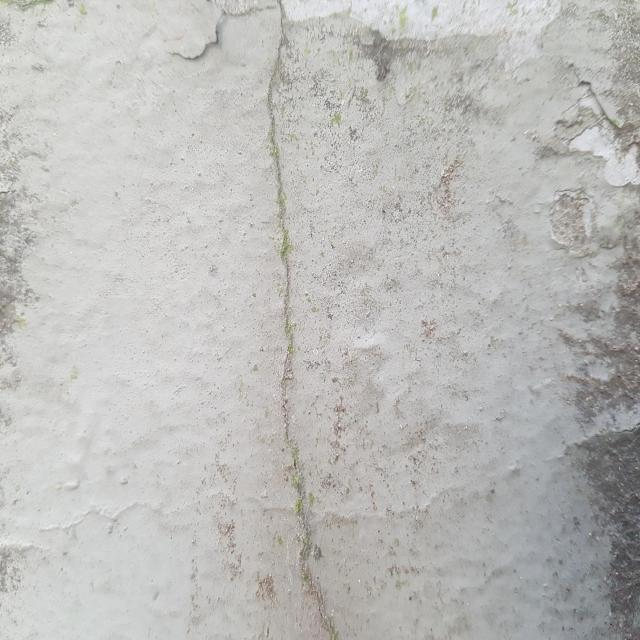SurfaceCrack: (227, 2, 362, 640)
